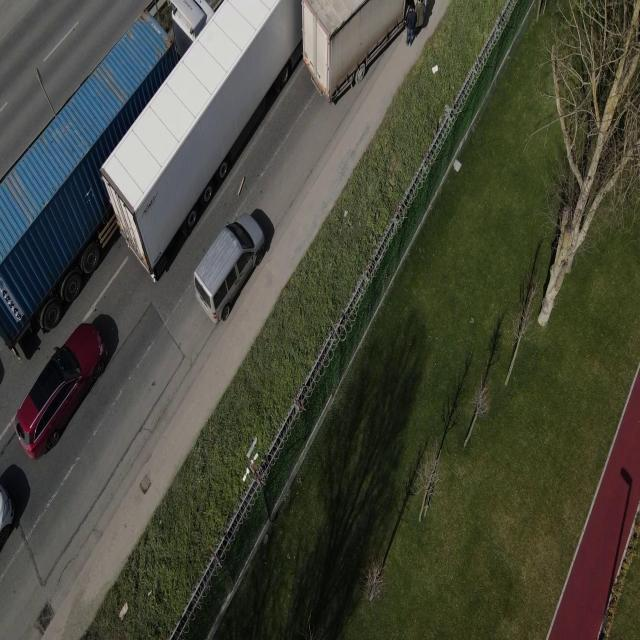p3rson: (404, 5, 417, 48), (416, 0, 426, 37)
